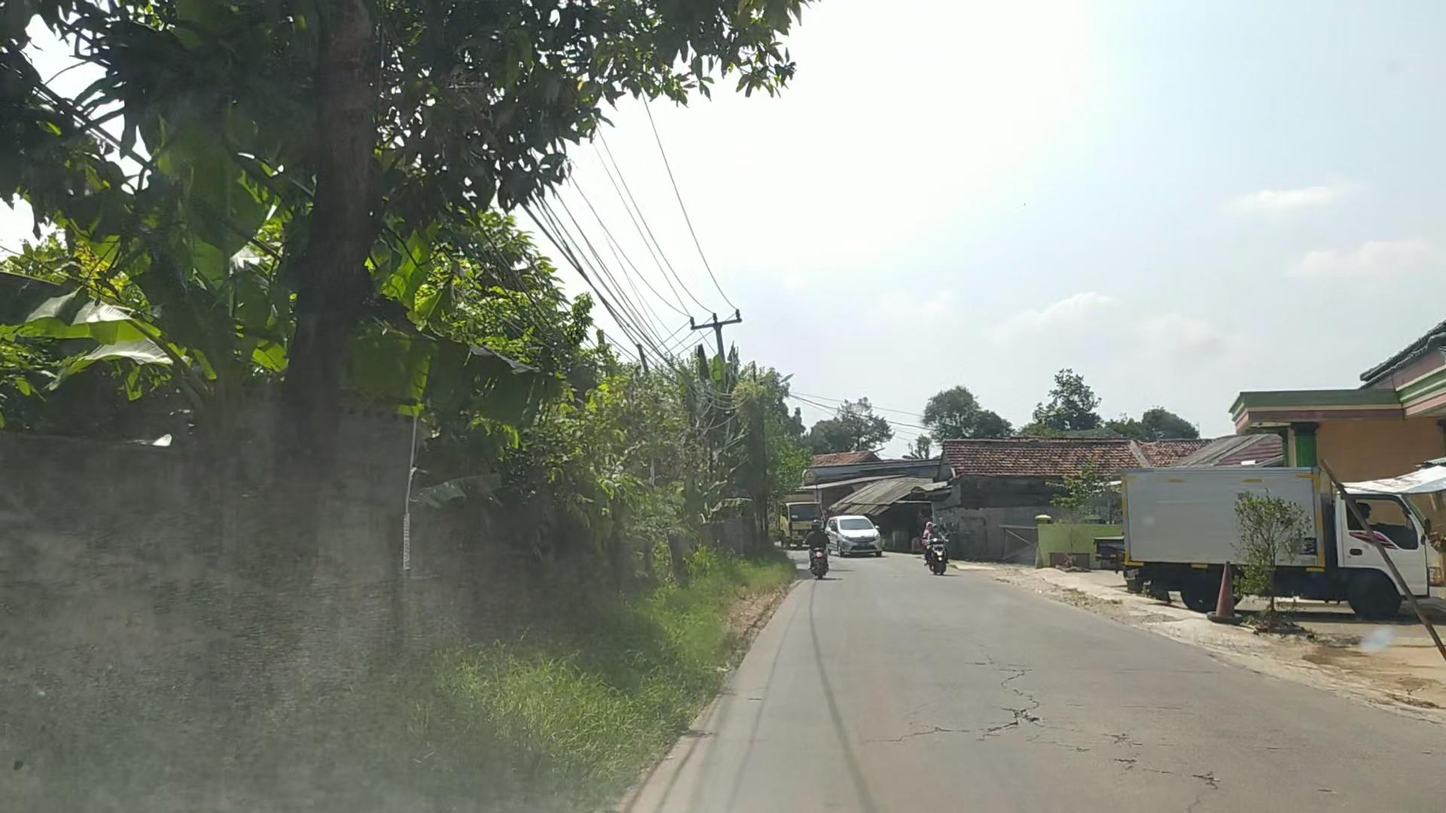pothole: (985, 706, 1045, 736)
